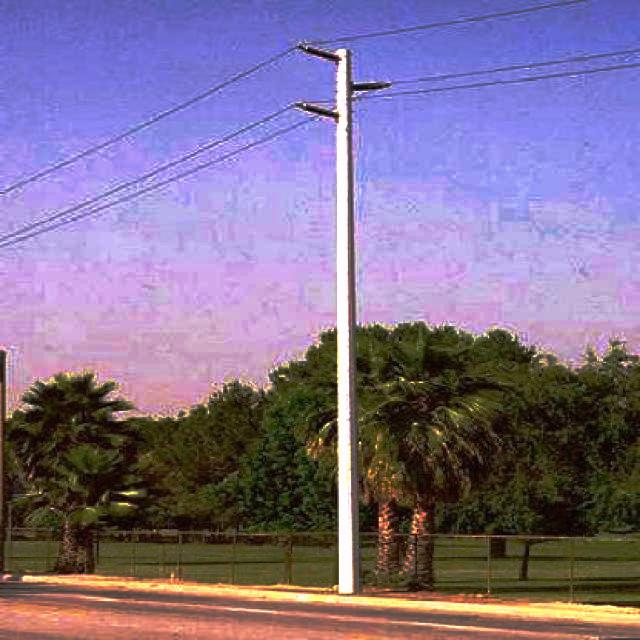poles: (297, 45, 388, 594)
wires: (0, 33, 302, 254), (374, 8, 639, 103)
